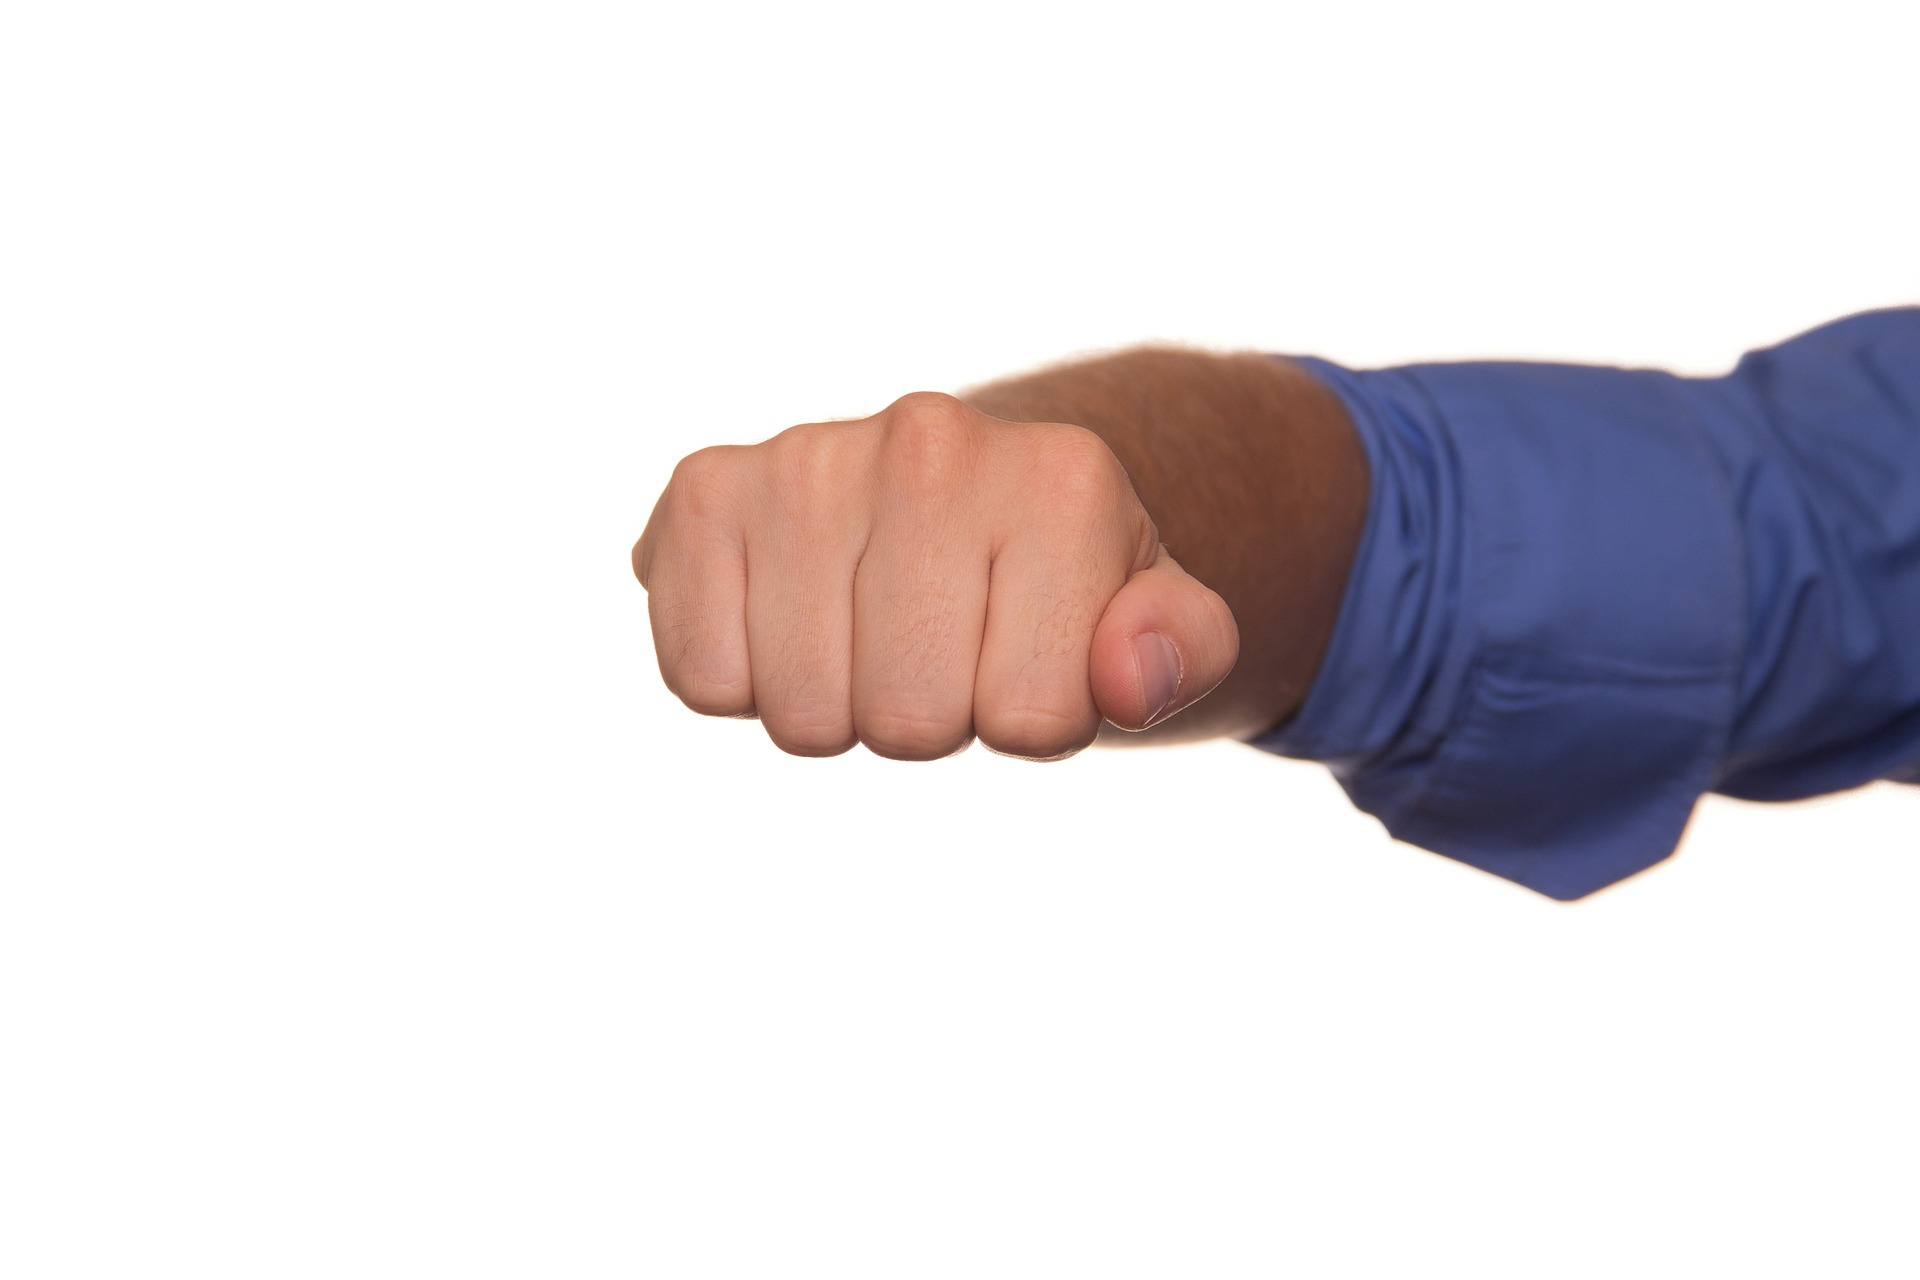fist: (584, 389, 1219, 813)
